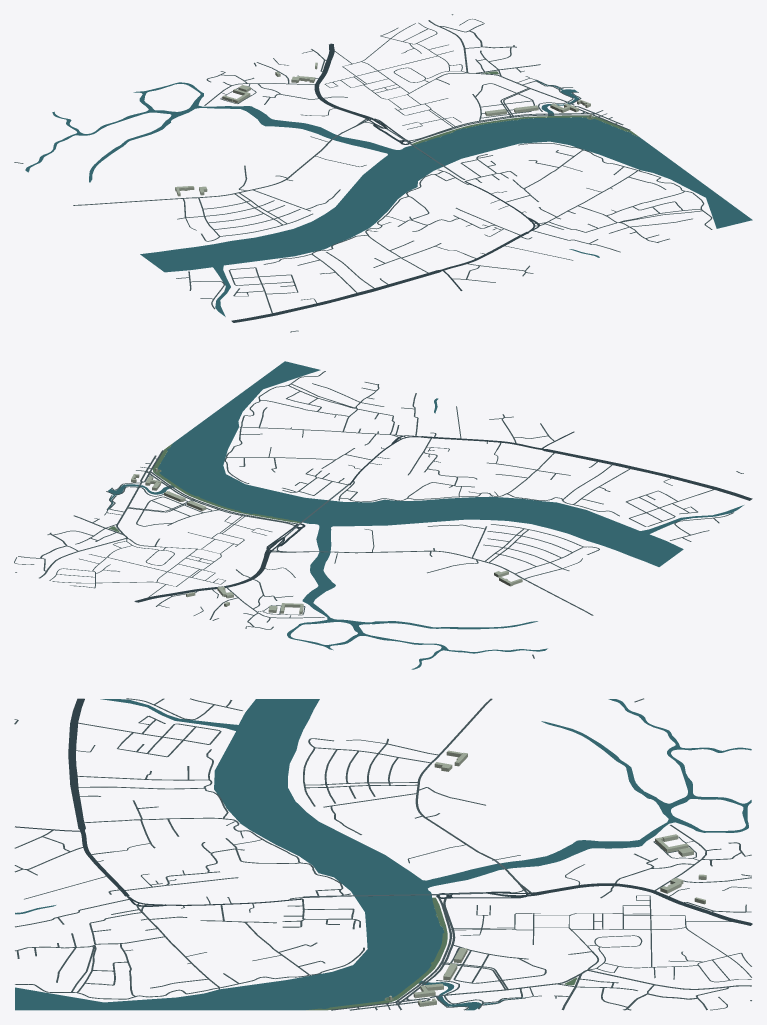
3 renders of one model, top to bottom at view 1: azimuth 30°, elevation 25°; view 2: azimuth 150°, elevation 25°; view 3: azimuth 270°, elevation 25°, orthographic. The views are drawn at different scales.
Parts seen in each view (by area): view 1: water, street, major, building, green; view 2: water, street, major, building, green; view 3: water, street, major, building, green.
Boxes of the visible parts, x1,y1,x2,y2 form: water: (25,80,752,316); street: (14,14,712,332); major: (231,43,540,322); building: (175,62,591,196); green: (412,71,638,144); water: (108,361,743,669); street: (14,371,743,658); major: (134,431,752,602); building: (131,468,522,614); green: (109,443,300,532); water: (15,699,751,1010); street: (14,698,751,1010); major: (15,698,752,925); building: (389,750,706,1006); green: (306,897,577,1010).
Size of the model in its own units: 2006 by 10.7 by 2006.
